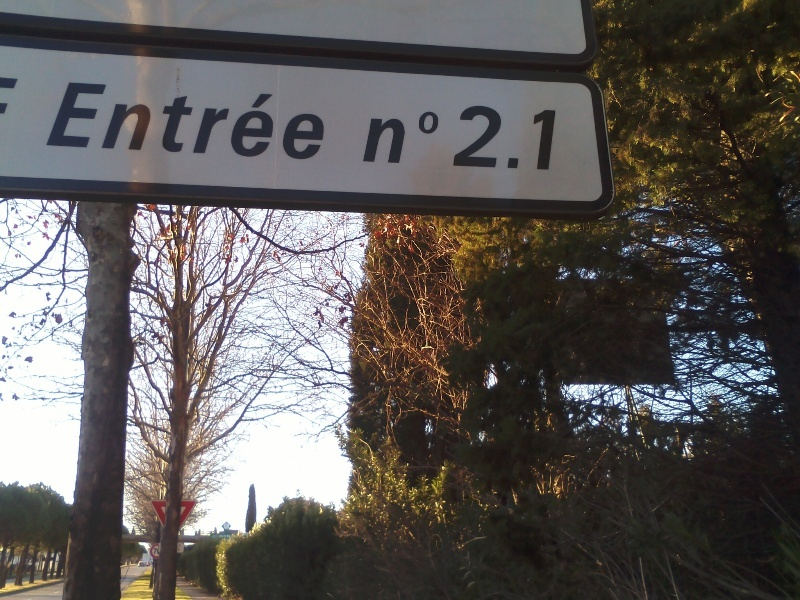text: (81, 82, 96, 161), (97, 82, 112, 161), (113, 82, 128, 161), (129, 82, 144, 161), (145, 82, 160, 161), (161, 82, 176, 161), (177, 82, 192, 161), (193, 82, 208, 161), (209, 82, 224, 161), (225, 82, 240, 161), (241, 82, 256, 161), (257, 82, 272, 161), (273, 82, 288, 161), (289, 82, 304, 161), (305, 82, 320, 161), (321, 82, 336, 161), (465, 105, 480, 172), (481, 105, 496, 172), (497, 105, 512, 172), (513, 105, 528, 172), (529, 105, 544, 172), (545, 105, 558, 172), (69, 82, 80, 161), (385, 109, 400, 166), (401, 109, 416, 166), (417, 109, 432, 166), (372, 109, 384, 166), (433, 109, 442, 166), (337, 82, 340, 161), (463, 105, 464, 172), (153, 547, 160, 556), (178, 548, 192, 552), (213, 534, 224, 539), (179, 544, 192, 548), (225, 534, 232, 539), (158, 549, 160, 555)
